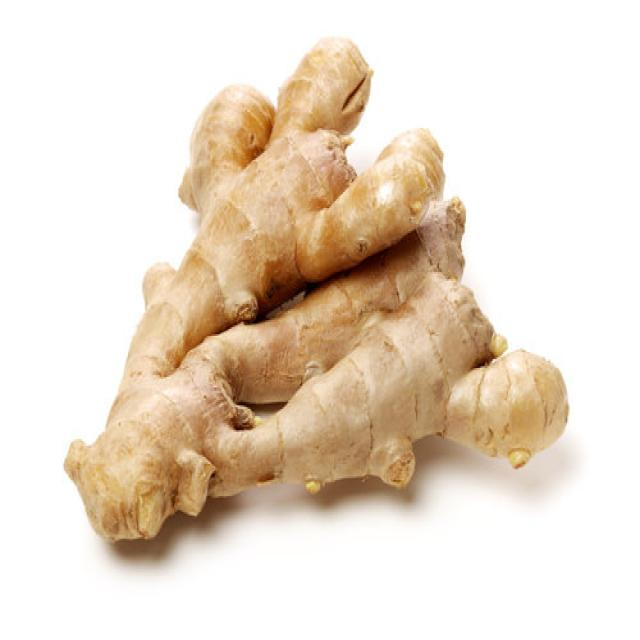Spinach: (63, 34, 568, 544)
